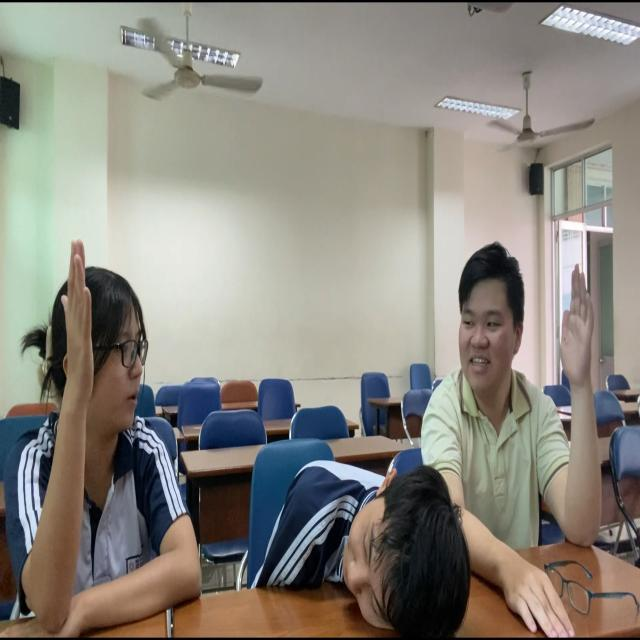raise_hand: (1, 210, 189, 640), (427, 238, 621, 640)
sleep: (197, 417, 475, 640)
